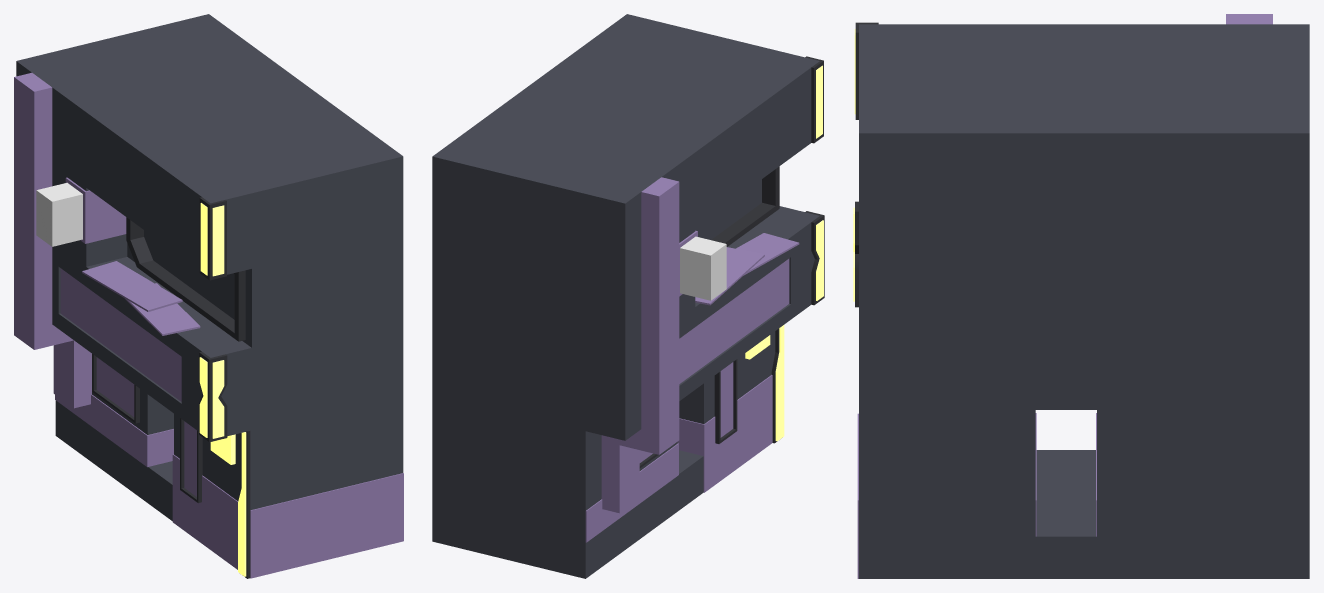
The model's file is Building_R_02_Env_BLOCK.fbx.
The picture shows the model from 3 angles, left to right: view 1: azimuth 30°, elevation 25°; view 2: azimuth 150°, elevation 25°; view 3: azimuth 270°, elevation 25°; orthographic projection. The views are drawn at different scales.
Visible parts, largest first — view 1: BuildingBase_BLOCK, MetalBottomSide_Close_BLOCK, Pipe_Long_01, MidGrate_BLOCK, MetalBottomSide_MainR_BLOCK, Pipe_Long_02, WindowFrame_BLOCK, MetalBottomSide_MainL_BLOCK, AirConUnit_Main_BLOCK, DecGrate_01_BLOCK, AirConUnit_Base_BLOCK, MidLight_EM_BLOCK (+11 smaller); view 2: BuildingBase_BLOCK, Pipe_Long_02, MidGrate_BLOCK, MetalBottomSide_MainR_BLOCK, Pipe_Long_01, AirConUnit_Main_BLOCK, MetalBottomSide_MainL_BLOCK, WindowFrame_BLOCK, DecGrate_01_BLOCK, DecGrate_02_BLOCK, BottomCornerLight_EM_BLOCK, BottomGrateThin_BLOCK (+4 smaller); view 3: BuildingBase_BLOCK.
Boxes of the visible parts, box(x1,y1,x2,y2) form: BuildingBase_BLOCK: box(16, 14, 403, 520); MetalBottomSide_Close_BLOCK: box(250, 473, 403, 578); Pipe_Long_01: box(24, 80, 91, 408); MidGrate_BLOCK: box(60, 268, 181, 401); MetalBottomSide_MainR_BLOCK: box(172, 454, 238, 569); Pipe_Long_02: box(14, 72, 63, 400); WindowFrame_BLOCK: box(126, 217, 245, 341); MetalBottomSide_MainL_BLOCK: box(55, 394, 173, 467); AirConUnit_Main_BLOCK: box(36, 182, 82, 246); DecGrate_01_BLOCK: box(82, 261, 182, 311); AirConUnit_Base_BLOCK: box(65, 177, 126, 243); MidLight_EM_BLOCK: box(199, 357, 224, 438); BuildingBase_BLOCK: box(432, 14, 819, 578); Pipe_Long_02: box(601, 184, 669, 513); MidGrate_BLOCK: box(679, 258, 789, 383); MetalBottomSide_MainR_BLOCK: box(677, 375, 772, 492); Pipe_Long_01: box(629, 177, 679, 505); AirConUnit_Main_BLOCK: box(680, 236, 726, 300); MetalBottomSide_MainL_BLOCK: box(585, 443, 678, 542); WindowFrame_BLOCK: box(711, 166, 779, 246); DecGrate_01_BLOCK: box(695, 247, 764, 305); DecGrate_02_BLOCK: box(736, 233, 799, 275); BottomCornerLight_EM_BLOCK: box(775, 325, 784, 441); BottomGrateThin_BLOCK: box(720, 362, 733, 437); BuildingBase_BLOCK: box(859, 24, 1309, 578).
Size of the model in its own units: 3.68 by 6 by 5.57.
